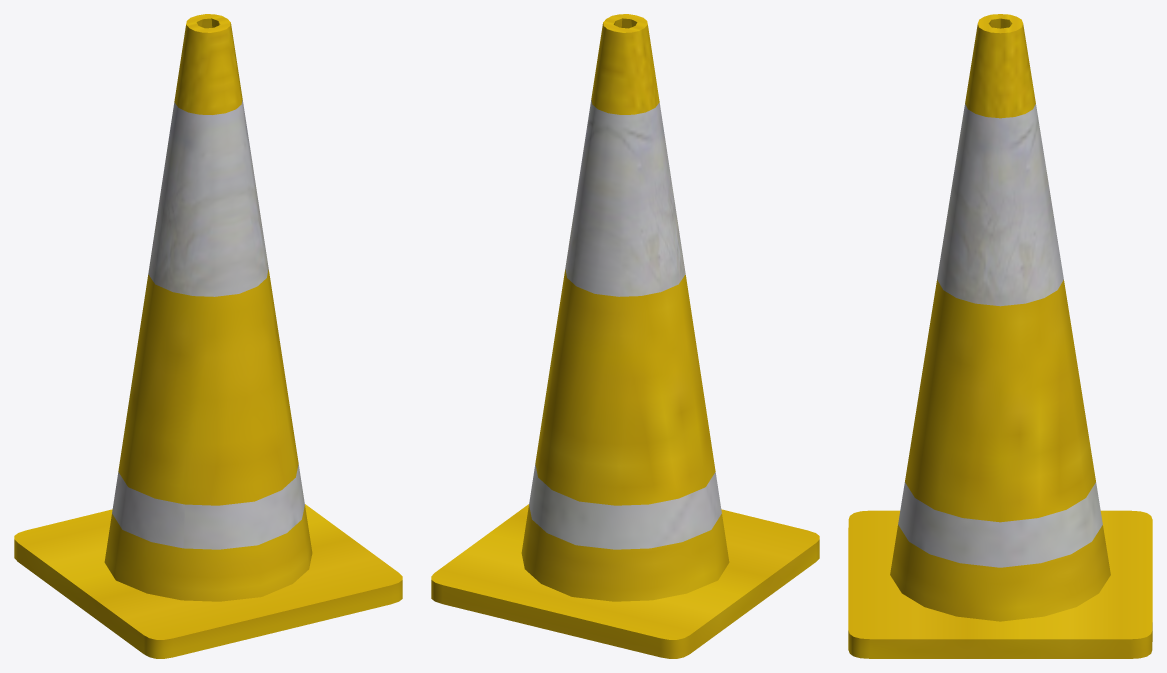
3 renders of one model, left to right at view 1: azimuth 30°, elevation 25°; view 2: azimuth 150°, elevation 25°; view 3: azimuth 270°, elevation 25°, orthographic. The views are drawn at different scales.
Visible parts, largest first — view 1: objPylon__44_1; view 2: objPylon__44_1; view 3: objPylon__44_1.
Part boxes in pixels (left/top/right/bottom): objPylon__44_1: left=14, top=14, right=402, bottom=658; objPylon__44_1: left=431, top=14, right=819, bottom=658; objPylon__44_1: left=848, top=14, right=1152, bottom=658.
Size of the model in its own units: 16.77 by 34.71 by 16.77.
